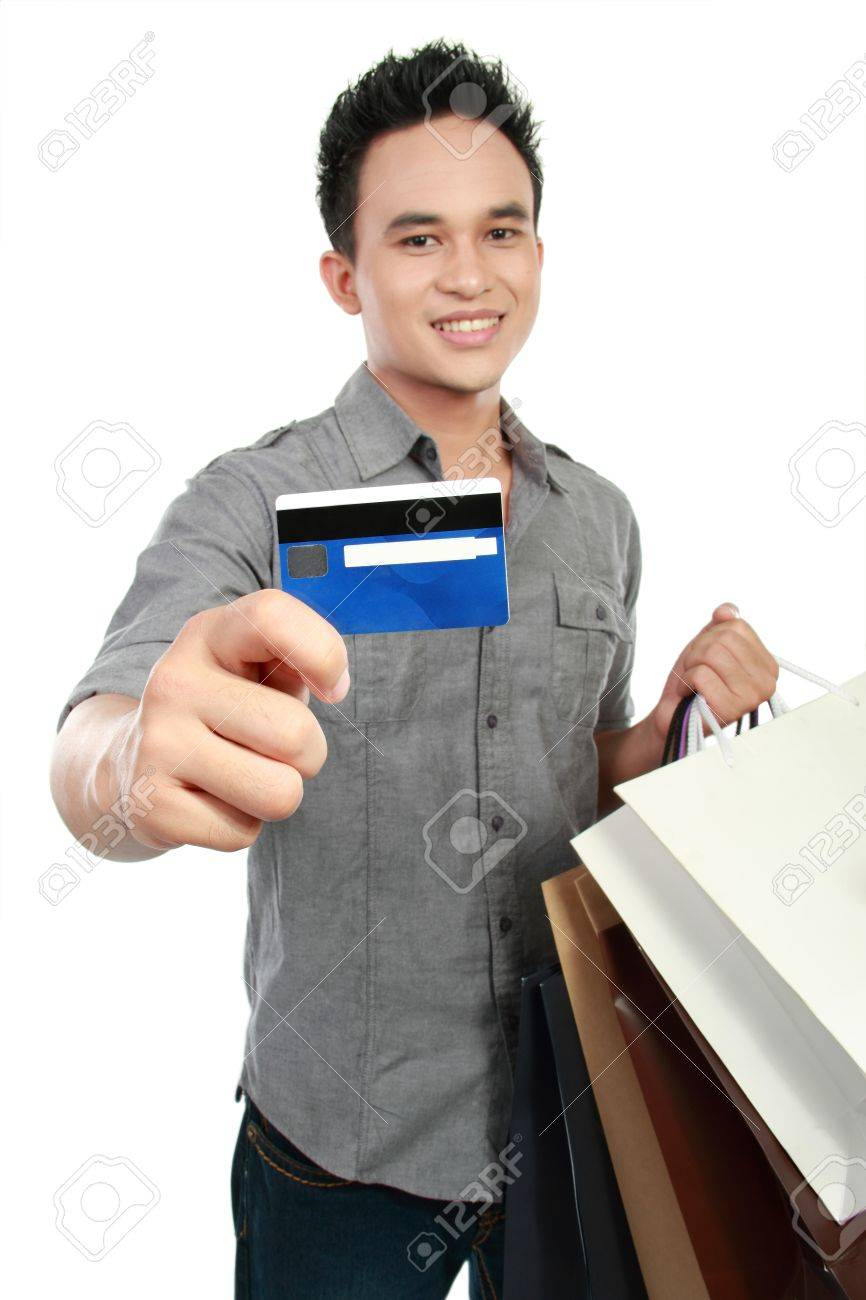tarjeta: (273, 474, 513, 637)
